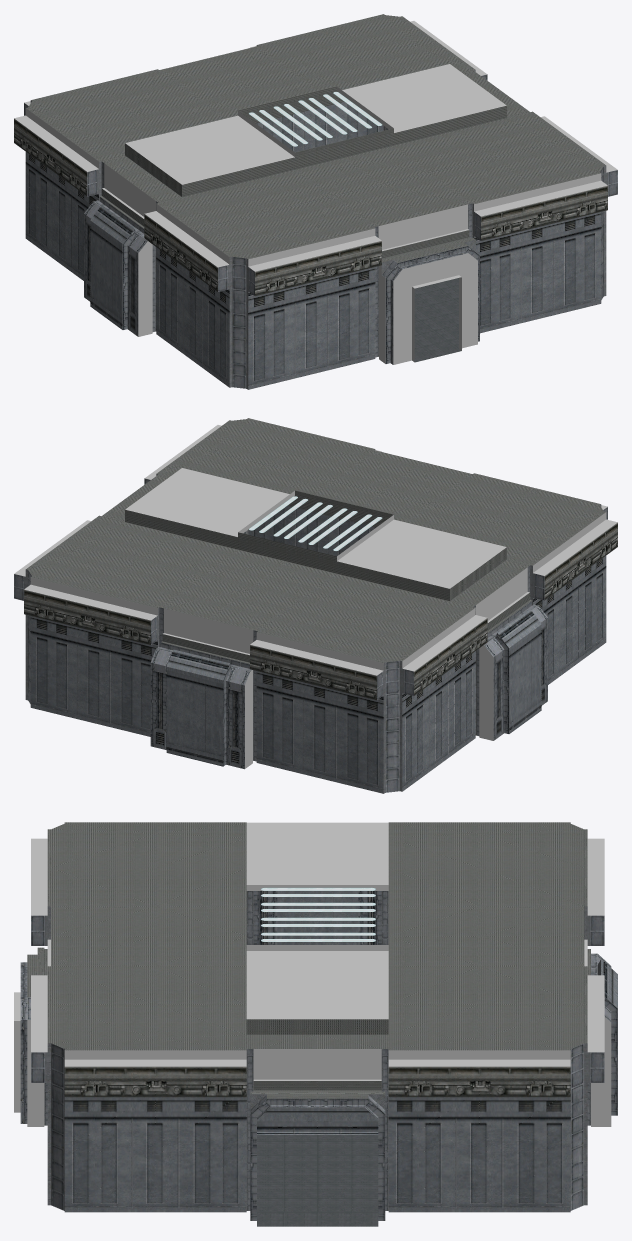
File: poi_all_impl_bunker_warren_s01_r34_smallroom34_mesh_r34.fbx
3 views of the same model, one above another, from view 1: azimuth 30°, elevation 25°; view 2: azimuth 150°, elevation 25°; view 3: azimuth 270°, elevation 25° (orthographic). The views are drawn at different scales.
Parts seen in each view (by area): view 1: mesh_node; view 2: mesh_node; view 3: mesh_node.
Boxes of the visible parts, x1,y1,x2,y2 form: mesh_node: (14, 14, 617, 389); mesh_node: (14, 418, 617, 793); mesh_node: (14, 822, 617, 1226).
Bounding box in the file's own units: 17.9 × 6 × 17.9.
